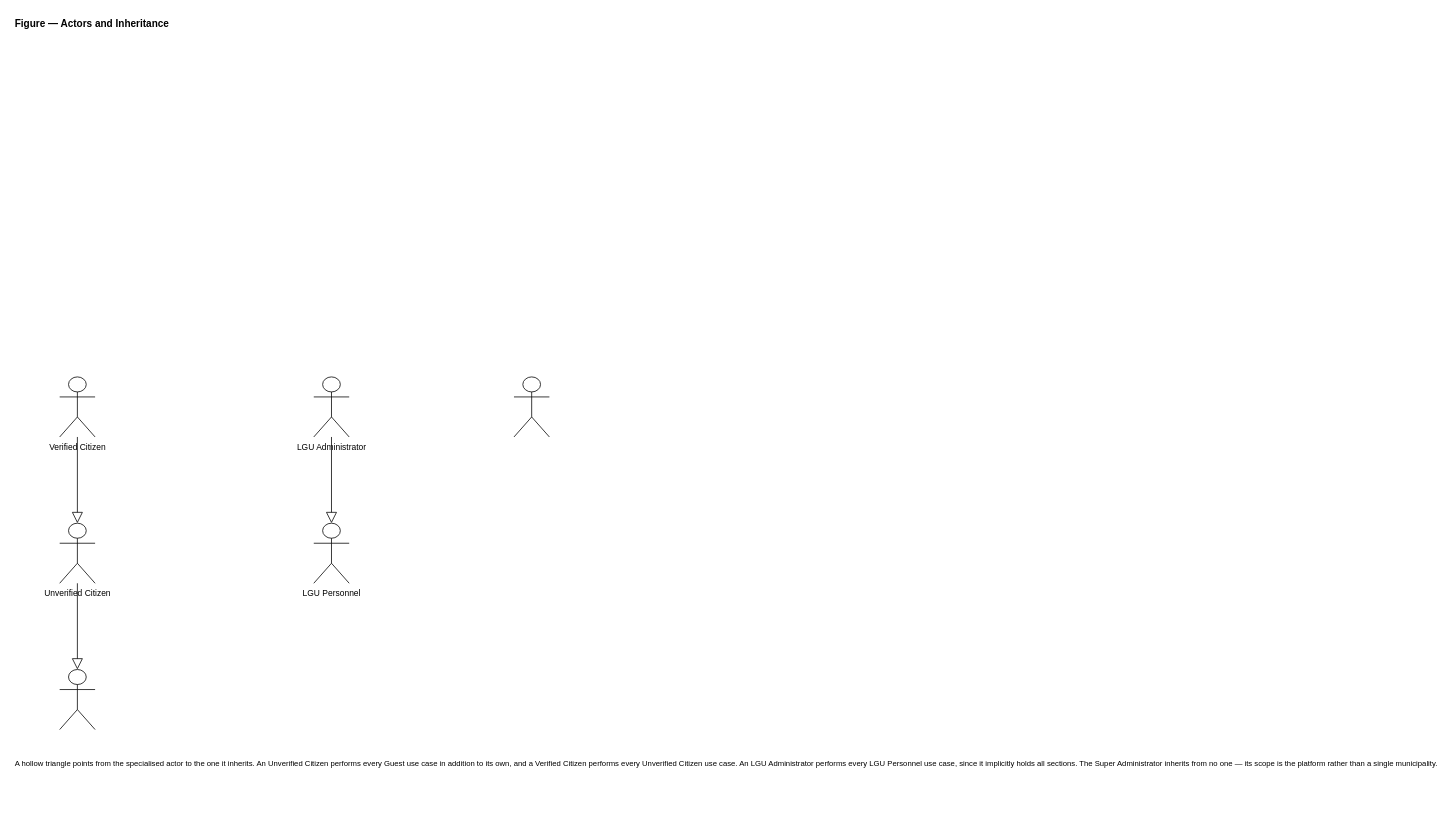
The diagram is 1451 pixels wide and 813 high, and some of its shapes have lost their labels. The shapes that lost their labels are listed below. From the top down, each one's centre as x and y in pixels, then its label:
At pixel 531 406: "Super Administrator".
At pixel 77 699: "Guest".
